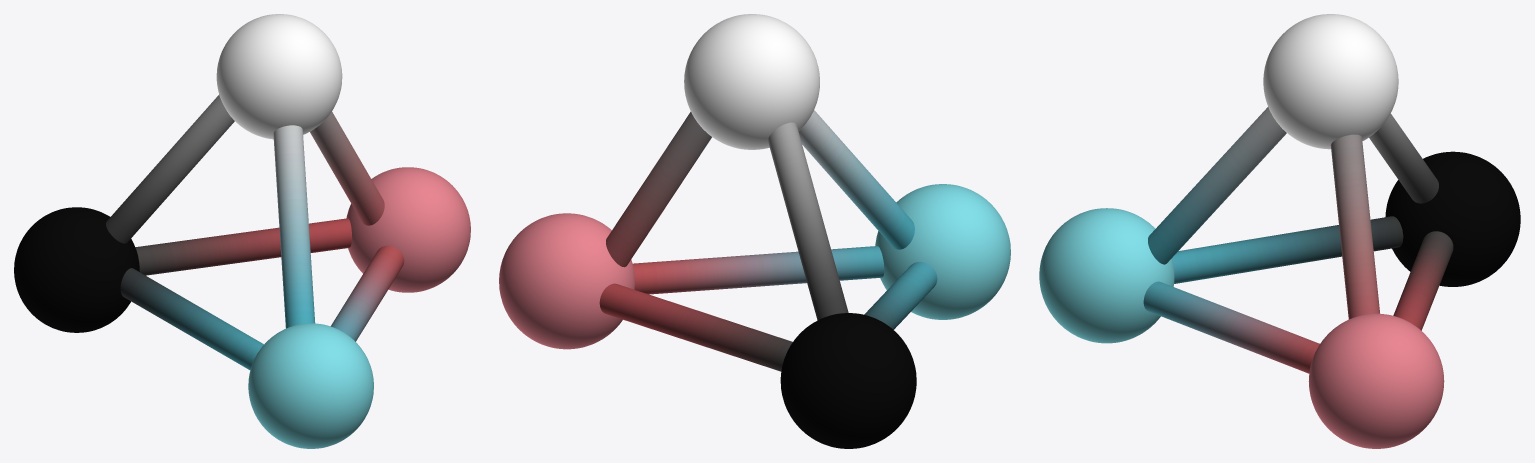
The picture shows the model from 3 angles, left to right: view 1: azimuth 30°, elevation 25°; view 2: azimuth 150°, elevation 25°; view 3: azimuth 270°, elevation 25°; orthographic projection. The views are drawn at different scales.
Parts seen in each view (by area): view 1: 007_Sphere_2, 006_Sphere_3, 008_Sphere_1, 009_Sphere, 003_Cylinder_5, 000_Cylinder_4, 004_Cylinder_3, 005_Cylinder, 001_Cylinder_1, 002_Cylinder_2; view 2: 008_Sphere_1, 006_Sphere_3, 009_Sphere, 007_Sphere_2, 002_Cylinder_2, 004_Cylinder_3, 000_Cylinder_4, 001_Cylinder_1, 003_Cylinder_5, 005_Cylinder; view 3: 009_Sphere, 006_Sphere_3, 007_Sphere_2, 008_Sphere_1, 005_Cylinder, 003_Cylinder_5, 001_Cylinder_1, 002_Cylinder_2, 000_Cylinder_4, 004_Cylinder_3.
Part boxes in pixels (x1,y1,x2,y2): 007_Sphere_2: [248, 323, 373, 448]; 006_Sphere_3: [216, 14, 342, 139]; 008_Sphere_1: [14, 207, 139, 332]; 009_Sphere: [346, 167, 470, 292]; 003_Cylinder_5: [273, 125, 315, 328]; 000_Cylinder_4: [135, 218, 351, 275]; 004_Cylinder_3: [106, 94, 234, 243]; 005_Cylinder: [120, 268, 263, 370]; 001_Cylinder_1: [310, 111, 384, 225]; 002_Cylinder_2: [330, 245, 404, 341]; 008_Sphere_1: [780, 313, 916, 448]; 006_Sphere_3: [684, 14, 819, 149]; 009_Sphere: [499, 213, 634, 349]; 007_Sphere_2: [875, 184, 1010, 319]; 002_Cylinder_2: [633, 246, 884, 294]; 004_Cylinder_3: [768, 122, 848, 320]; 000_Cylinder_4: [599, 283, 792, 371]; 001_Cylinder_1: [606, 111, 711, 267]; 003_Cylinder_5: [798, 110, 914, 249]; 005_Cylinder: [864, 262, 937, 329]; 009_Sphere: [1308, 313, 1444, 448]; 006_Sphere_3: [1263, 14, 1398, 149]; 007_Sphere_2: [1039, 208, 1174, 343]; 008_Sphere_1: [1385, 151, 1520, 286]; 005_Cylinder: [1172, 216, 1403, 283]; 003_Cylinder_5: [1148, 107, 1286, 264]; 001_Cylinder_1: [1330, 134, 1380, 319]; 002_Cylinder_2: [1143, 281, 1319, 373]; 000_Cylinder_4: [1393, 231, 1453, 330]; 004_Cylinder_3: [1369, 113, 1438, 203].
Size of the model in its own units: 392 by 305 by 375.
Materials: 10 (6 with a texture image).
